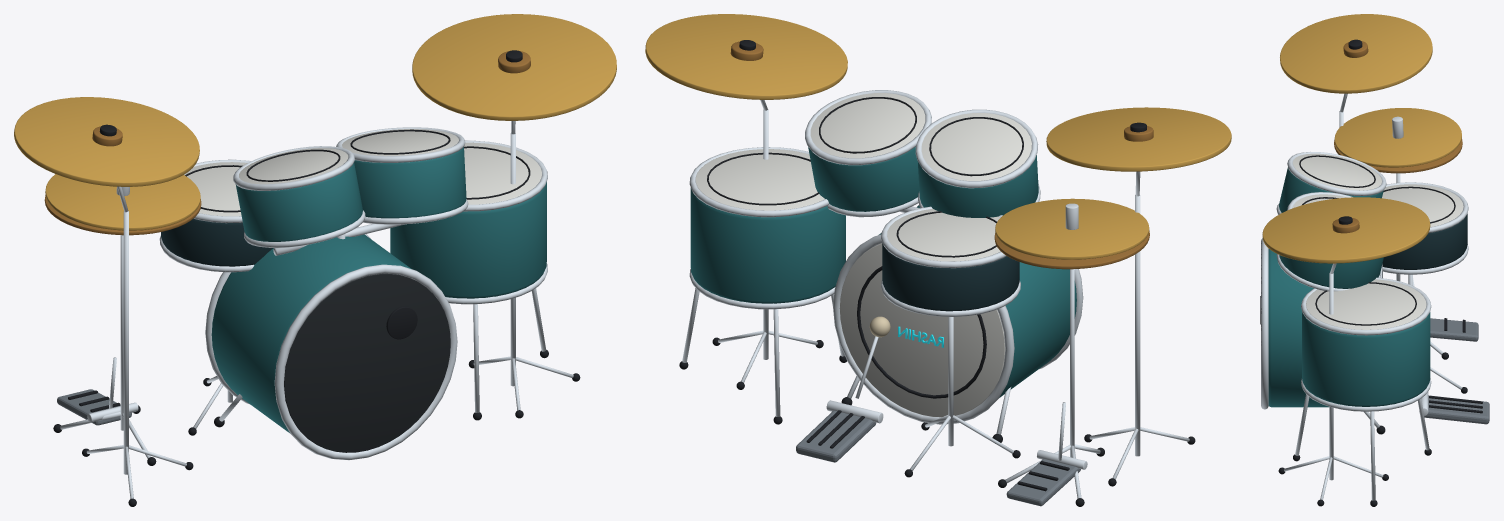
Rendered from rashin-resonance-5-hero.glb.
3 renders of one model, left to right at view 1: azimuth 30°, elevation 25°; view 2: azimuth 150°, elevation 25°; view 3: azimuth 270°, elevation 25°, orthographic. The views are drawn at different scales.
Parts seen in each view (by area): view 1: kick_resonant_head, ride_plate, kick_shell, crash_plate, floor_tom_shell, rack_tom_left_shell, hihat_top_plate, rack_tom_right_shell, kick_hoop_back, snare_shell, floor_tom_top_head, rack_tom_left_top_head (+15 smaller); view 2: kick_batter_head, floor_tom_shell, ride_plate, crash_plate, hihat_top_plate, floor_tom_top_head, snare_shell, kick_shell, rack_tom_left_top_head, rack_tom_right_top_head, rack_tom_right_shell, snare_top_head (+15 smaller); view 3: crash_plate, floor_tom_shell, ride_plate, hihat_top_plate, kick_shell, floor_tom_top_head, snare_shell, rack_tom_left_top_head, rack_tom_right_shell, snare_top_head, kick_hoop_back, floor_tom_hoop_top (+17 smaller).
Boxes of the visible parts, box(x1,y1,x2,y2) form: kick_resonant_head: box(284, 273, 450, 452); ride_plate: box(412, 14, 616, 120); kick_shell: box(211, 234, 411, 432); crash_plate: box(14, 97, 199, 186); floor_tom_shell: box(390, 181, 546, 298); rack_tom_left_shell: box(235, 163, 362, 241); hihat_top_plate: box(45, 174, 200, 230); rack_tom_right_shell: box(354, 147, 466, 218); kick_hoop_back: box(274, 264, 457, 460); snare_shell: box(161, 218, 272, 266); floor_tom_top_head: box(464, 142, 541, 204); rack_tom_left_top_head: box(239, 148, 348, 184); kick_batter_head: box(839, 243, 1005, 417); floor_tom_shell: box(690, 188, 845, 303); ride_plate: box(645, 14, 847, 99); crash_plate: box(1046, 107, 1231, 171); hihat_top_plate: box(995, 198, 1149, 259); floor_tom_top_head: box(695, 149, 824, 210); snare_shell: box(882, 243, 1019, 311); kick_shell: box(879, 205, 1076, 397); rack_tom_left_top_head: box(921, 113, 1031, 180); rack_tom_right_top_head: box(810, 93, 925, 158); rack_tom_right_shell: box(808, 147, 919, 211); snare_top_head: box(887, 208, 1000, 261); crash_plate: box(1280, 14, 1432, 93); floor_tom_shell: box(1302, 312, 1430, 406); ride_plate: box(1262, 197, 1430, 263); hihat_top_plate: box(1334, 108, 1461, 167); kick_shell: box(1268, 249, 1328, 407); floor_tom_top_head: box(1306, 279, 1426, 329); snare_shell: box(1382, 214, 1467, 269); rack_tom_left_top_head: box(1292, 153, 1381, 190); rack_tom_right_shell: box(1279, 255, 1383, 288); snare_top_head: box(1382, 184, 1463, 227); kick_hoop_back: box(1261, 238, 1268, 409); floor_tom_hoop_top: box(1301, 277, 1431, 335).
Bounding box in the file's own units: 2.19 × 1.27 × 0.9282.
